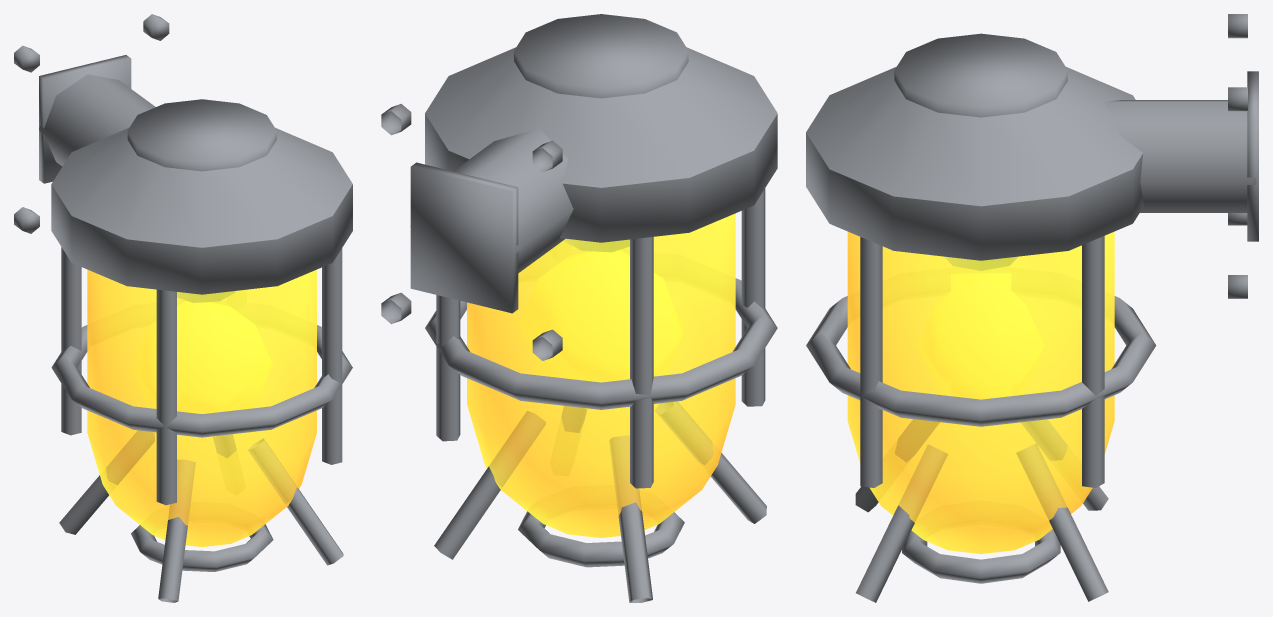
The model's file is alarm_light.glb.
3 views of the same model, side by side, from view 1: azimuth 30°, elevation 25°; view 2: azimuth 150°, elevation 25°; view 3: azimuth 270°, elevation 25° (orthographic). The views are drawn at different scales.
Visible parts, largest first — view 1: AlarmLight_MetalHousing, AlarmLight_GlassDome, AlarmLight_BulbCore; view 2: AlarmLight_MetalHousing, AlarmLight_GlassDome, AlarmLight_BulbCore; view 3: AlarmLight_MetalHousing, AlarmLight_GlassDome, AlarmLight_BulbCore.
Part boxes in pixels (x1,y1,x2,y2): AlarmLight_MetalHousing: (14,14,352,602); AlarmLight_GlassDome: (87,269,316,546); AlarmLight_BulbCore: (132,301,271,413); AlarmLight_MetalHousing: (381,14,777,602); AlarmLight_GlassDome: (467,213,735,537); AlarmLight_BulbCore: (520,250,682,381); AlarmLight_MetalHousing: (806,14,1258,602); AlarmLight_GlassDome: (847,231,1114,553); AlarmLight_BulbCore: (918,274,1043,398).
Size of the model in its own units: 0.1512 by 0.2408 by 0.1955.
